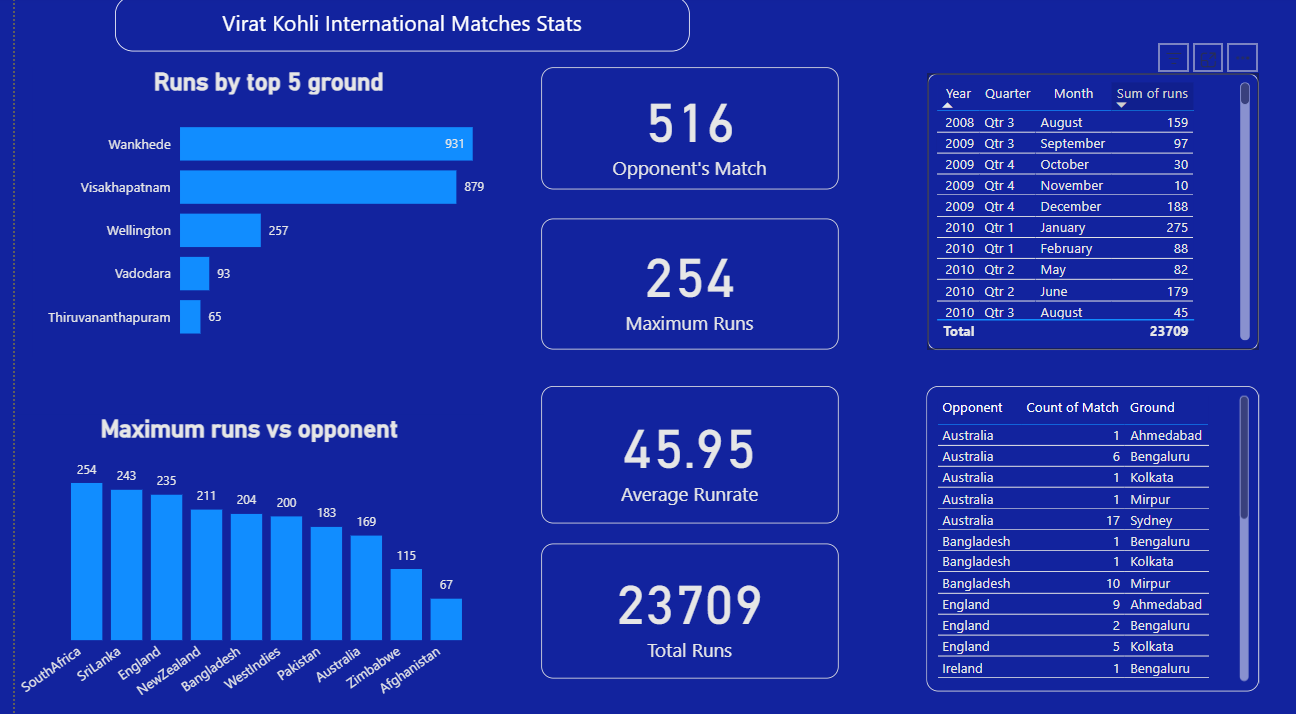

This screenshot's page, from the dashboard's own definition file:
{"tool":"powerbi","page":{"name":"Page 1","canvas":[1280,720],"ordinal":0},"visuals":[{"type":"barChart","title":"Runs by top 5 ground","fields":{"Category":["final (1).ground"],"Y":["final (1).runs"]},"box":[17.4,70.9,470.2,288.6],"z":0},{"type":"tableEx","fields":{"Values":["final (1).date.Variation.Date Hierarchy.Year","final (1).date.Variation.Date Hierarchy.Quarter","final (1).date.Variation.Date Hierarchy.Month","final (1).runs"]},"box":[908.1,77.1,329.6,274.9],"z":1000},{"type":"columnChart","title":"Maximum runs vs opponent","fields":{"Category":["final (1).opponent"],"Y":["final (1).runs"]},"box":[0,416.7,466.5,303.5],"z":2000},{"type":"card","fields":{"Values":["final (1).match"]},"box":[523.7,70.9,296.1,121.9],"z":3000},{"type":"card","fields":{"Values":["final (1).runs"]},"box":[523.7,221.4,296.1,130.6],"z":4000},{"type":"card","fields":{"Values":["final (1).runs"]},"box":[523.7,388.1,296.1,136.8],"z":5000},{"type":"card","fields":{"Values":["final (1).runs"]},"box":[523.7,544.9,296.1,134.3],"z":6000},{"type":"tableEx","fields":{"Values":["final (1).opponent","final (1).match","final (1).ground"]},"box":[907.4,387.7,330.9,303.7],"z":7000},{"type":"textbox","box":[100,0,571.6,55.6],"z":8000}]}

Visuals, with their boxes in screenshot pixels (x1, y1, x2, y2), scaled from the page's 1280x720 canvas onto the 1296x714 screenshot:
"Runs by top 5 ground" barChart: (18, 70, 494, 357)
tableEx - final (1).date.Variation.Date Hierarchy.Year x final (1).date.Variation.Date Hierarchy.Quarter: (919, 76, 1253, 349)
"Maximum runs vs opponent" columnChart: (0, 413, 472, 713)
card - final (1).match: (530, 70, 830, 191)
card - final (1).runs: (530, 220, 830, 349)
card - final (1).runs: (530, 385, 830, 521)
card - final (1).runs: (530, 540, 830, 674)
tableEx - final (1).opponent x final (1).match: (919, 384, 1254, 686)
textbox: (101, 0, 680, 55)
